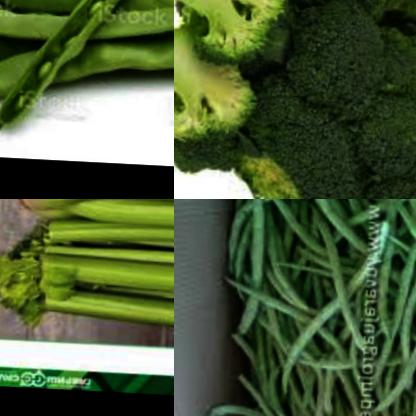beans: (196, 199, 416, 416), (0, 0, 174, 137)
broccoli: (174, 0, 416, 199), (174, 17, 264, 152), (174, 0, 309, 63)
celery: (0, 212, 174, 346), (6, 199, 174, 243)
